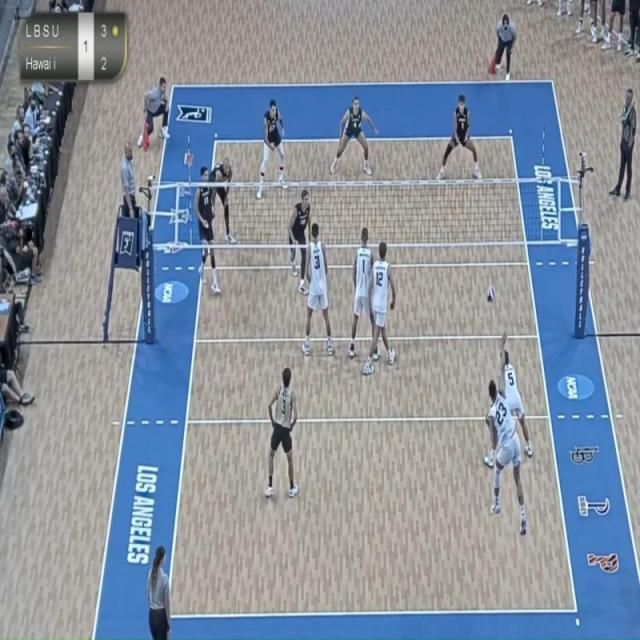volleyball: (484, 282, 498, 306)
